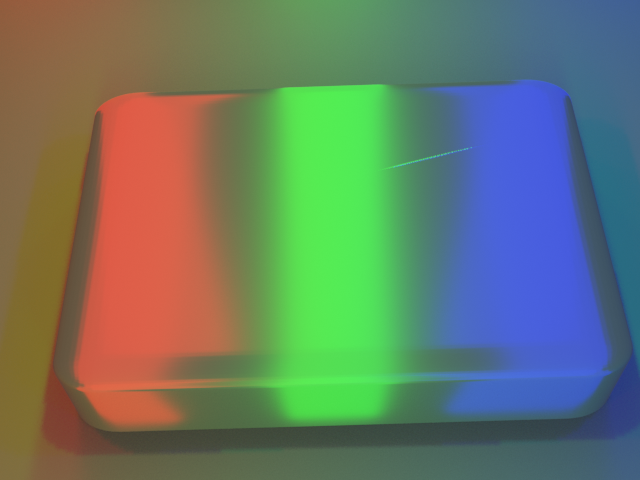scratch: (296, 71, 597, 233)
